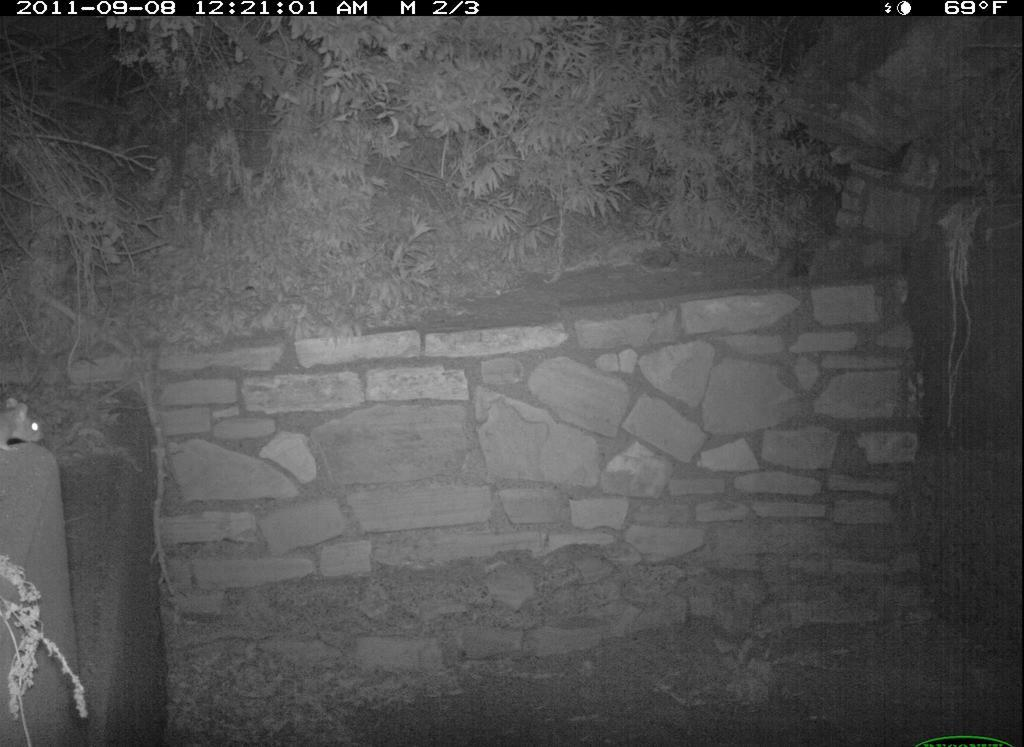rodent: (1, 385, 46, 458)
